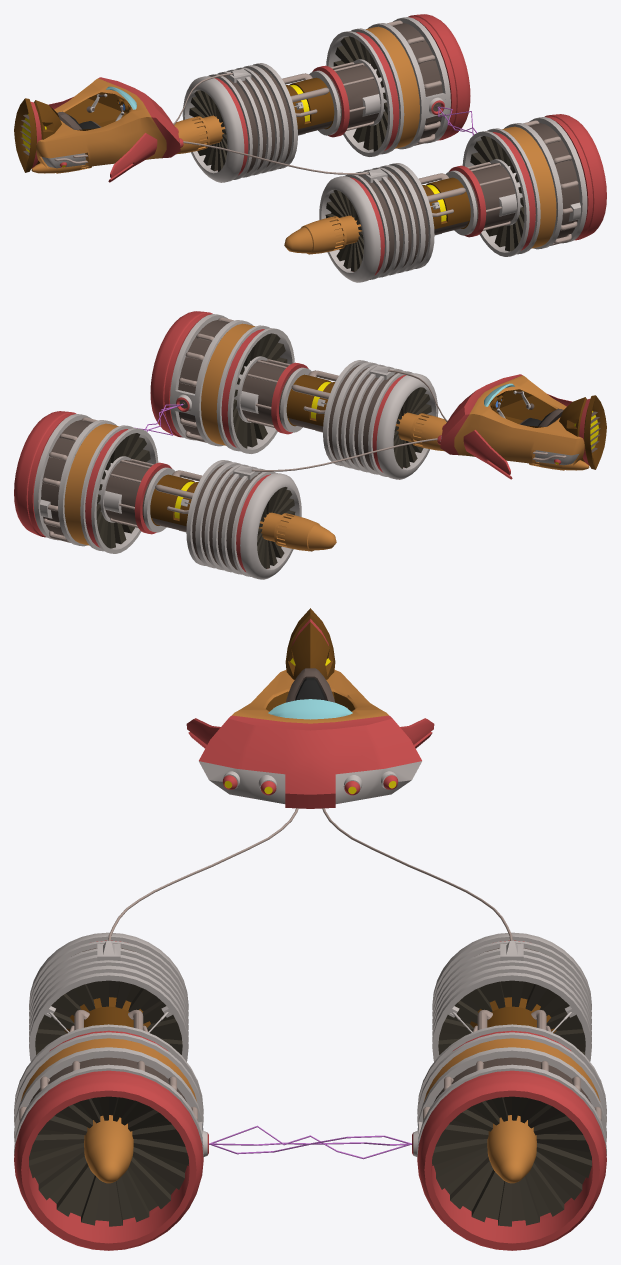
File: pod-course.glb
The picture shows the model from 3 angles, top to bottom: view 1: azimuth 30°, elevation 25°; view 2: azimuth 150°, elevation 25°; view 3: azimuth 270°, elevation 25°; orthographic projection. The views are drawn at different scales.
Parts seen in each view (by area): view 1: PodRacer; view 2: PodRacer; view 3: PodRacer.
Boxes of the visible parts, left/top/right/bottom form: PodRacer: left=14, top=14, right=606, bottom=282; PodRacer: left=14, top=311, right=606, bottom=579; PodRacer: left=14, top=608, right=606, bottom=1250.
Size of the model in its own units: 7.44 by 2.89 by 5.2.
